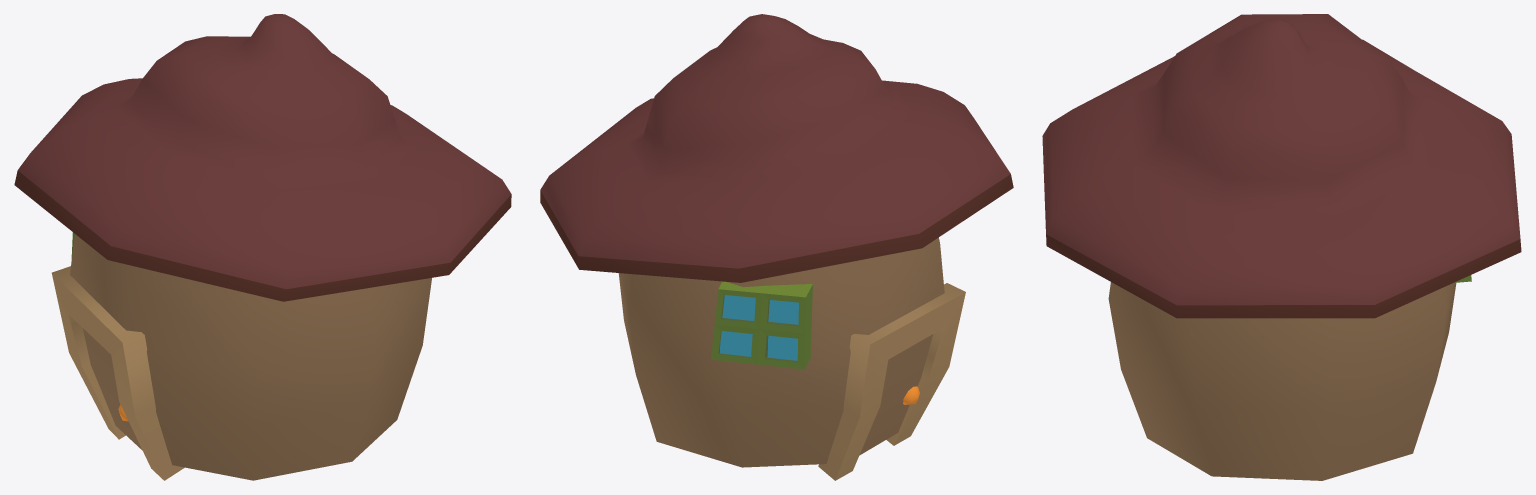
Rendered from House_Eumling.glb.
The picture shows the model from 3 angles, left to right: view 1: azimuth 30°, elevation 25°; view 2: azimuth 150°, elevation 25°; view 3: azimuth 270°, elevation 25°; orthographic projection. The views are drawn at different scales.
Visible parts, largest first — view 1: roof, base, doorstep; view 2: roof, base, doorstep, window, Plane.015, Plane.016, Plane.014, Plane.017; view 3: roof, base.
Boxes of the visible parts, x1,y1,x2,y2 form: roof: (14,14,511,301); base: (70,234,431,480); doorstep: (51,266,184,480); roof: (540,14,1013,282); base: (618,237,944,467); doorstep: (818,283,965,480); window: (711,281,812,369); Plane.015: (722,295,755,320); Plane.016: (720,331,752,356); Plane.014: (768,300,798,324); Plane.017: (767,335,797,360); roof: (1042,14,1521,318); base: (1108,282,1456,480).
Bounding box in the file's own units: 3.03 × 3.02 × 3.07.
Materials: 1 (1 with a texture image).
